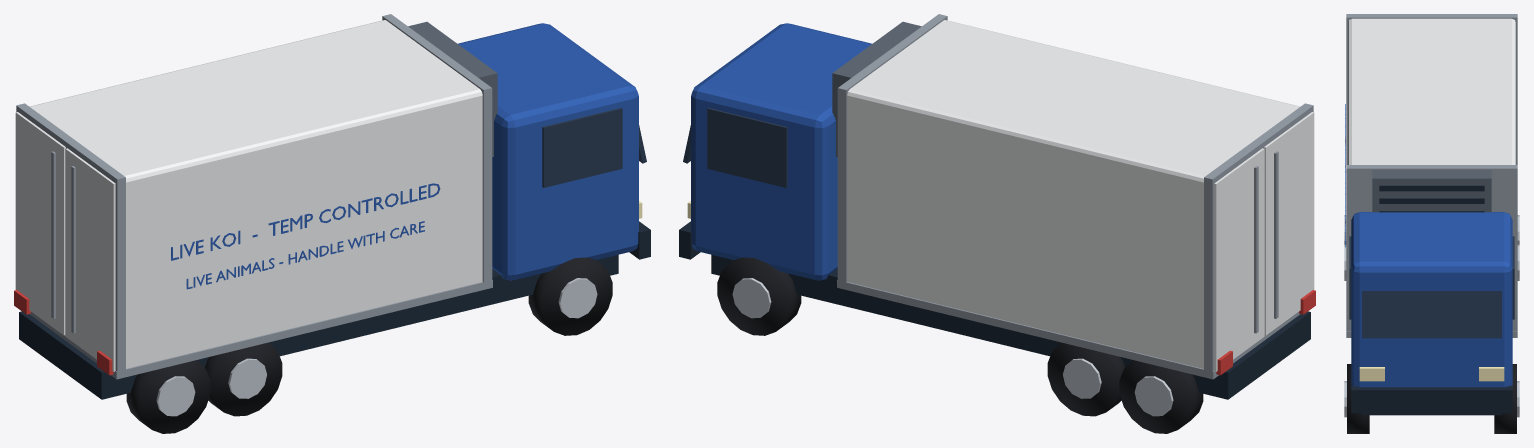
File: reefer.glb
3 renders of one model, left to right at view 1: azimuth 30°, elevation 25°; view 2: azimuth 150°, elevation 25°; view 3: azimuth 270°, elevation 25°, orthographic. The views are drawn at different scales.
Parts seen in each view (by area): view 1: ColdBox, CabBody, RearDoor.001, RearDoor, Chassis, SideWindow, Tyre, BoxRail, BoxFrame, Tyre.004, BoxFrame.001, Tyre.002 (+8 smaller); view 2: ColdBox, CabBody, RearDoor, RearDoor.001, Chassis, SideWindow.001, Tyre.001, BoxRail, BoxFrame, Tyre.005, BoxFrame.001, Tyre.003 (+6 smaller); view 3: ColdBox, CabBody, Windshield, Bumper, BoxFrame.001, CoolingUnit, BoxFrame, UnitGrill.004, Tyre, Tyre.001, UnitGrill.003, Chassis (+5 smaller).
Part boxes in pixels (box(x1,y1,x2,y2)): ColdBox: box(29, 20, 482, 368); CabBody: box(458, 23, 638, 280); RearDoor.001: box(15, 112, 65, 335); RearDoor: box(65, 148, 115, 371); Chassis: box(19, 254, 618, 399); SideWindow: box(542, 108, 622, 187); Tyre: box(528, 257, 612, 335); BoxRail: box(29, 280, 492, 379); BoxFrame: box(16, 103, 125, 377); Tyre.004: box(126, 360, 210, 433); BoxFrame.001: box(382, 14, 492, 288); Tyre.002: box(205, 342, 282, 416); ColdBox: box(847, 20, 1300, 368); CabBody: box(691, 23, 871, 280); RearDoor: box(1264, 112, 1314, 335); RearDoor.001: box(1214, 148, 1264, 371); Chassis: box(711, 254, 1310, 399); SideWindow.001: box(707, 108, 787, 187); Tyre.001: box(717, 257, 801, 335); BoxRail: box(837, 280, 1300, 379); BoxFrame: box(1204, 103, 1313, 377); Tyre.005: box(1119, 360, 1203, 433); BoxFrame.001: box(837, 14, 947, 288); Tyre.003: box(1047, 342, 1124, 416); ColdBox: box(1348, 18, 1515, 164); CabBody: box(1351, 212, 1512, 387); Windshield: box(1362, 291, 1501, 338); Bumper: box(1351, 385, 1512, 413); BoxFrame.001: box(1346, 165, 1517, 331); CoolingUnit: box(1372, 170, 1491, 212); BoxFrame: box(1346, 14, 1517, 164); UnitGrill.004: box(1379, 185, 1484, 191); Tyre: box(1347, 364, 1369, 433); Tyre.001: box(1494, 364, 1516, 433); UnitGrill.003: box(1379, 198, 1484, 203); Chassis: box(1362, 413, 1501, 415).
Bounding box in the file's own units: 7.59 × 3.57 × 2.5.
